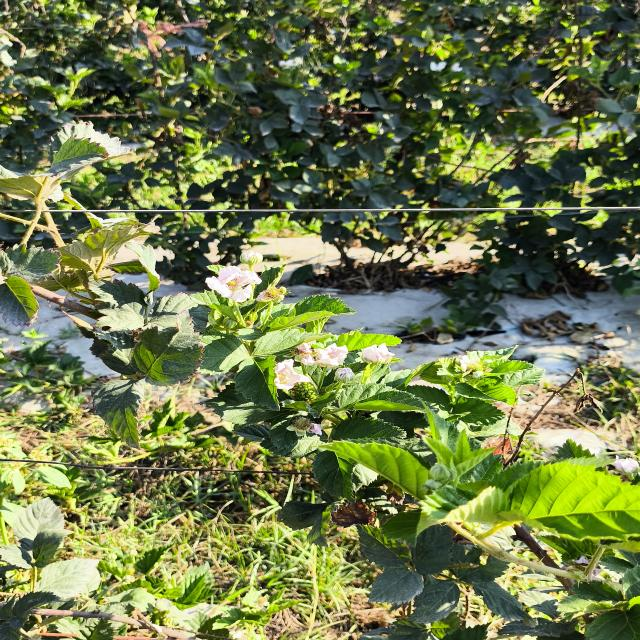boton: (240, 250, 263, 268), (335, 367, 355, 382)
flor: (206, 266, 261, 303), (274, 359, 310, 390), (313, 344, 348, 367), (361, 343, 394, 363)
